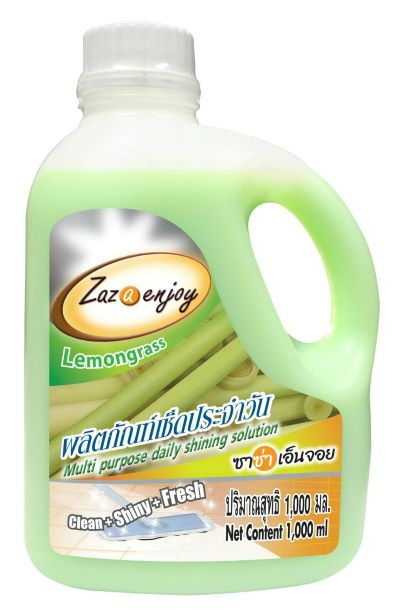Cleaning_solution: (21, 14, 388, 600)
